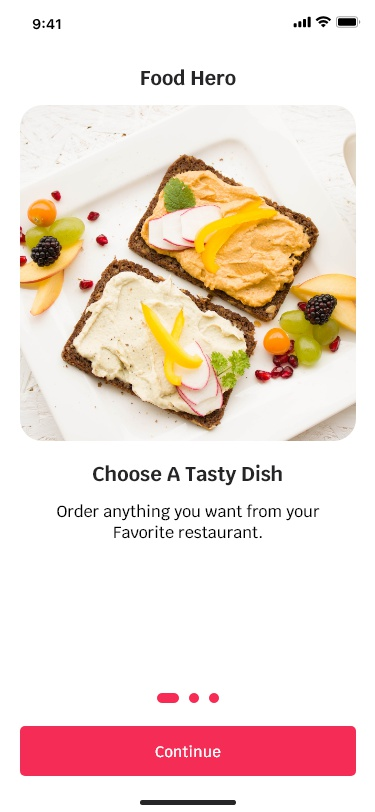Image: (20, 106, 356, 442)
PageIndicator: (157, 692, 220, 704)
Text: (57, 503, 320, 539), (93, 464, 283, 486), (141, 69, 237, 87)
TextButton: (21, 726, 356, 776)
UpperTaskBar: (33, 16, 361, 31)
